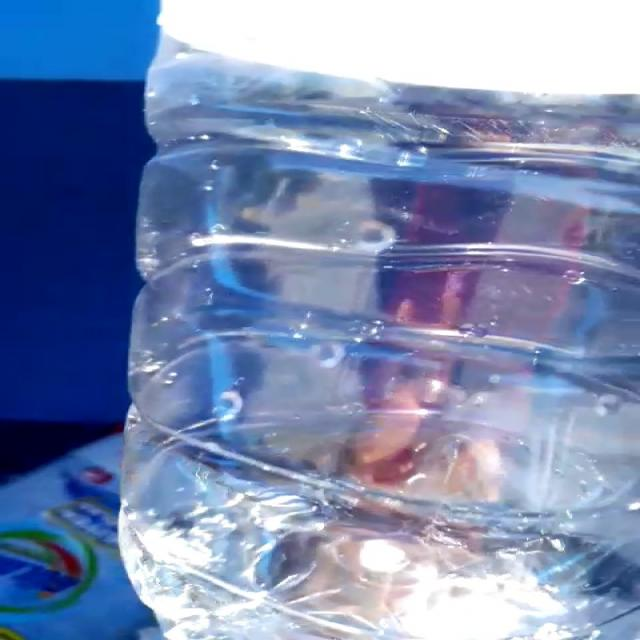plastic: (119, 4, 639, 640)
